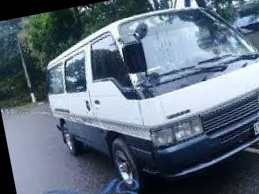van: (26, 0, 259, 194)
